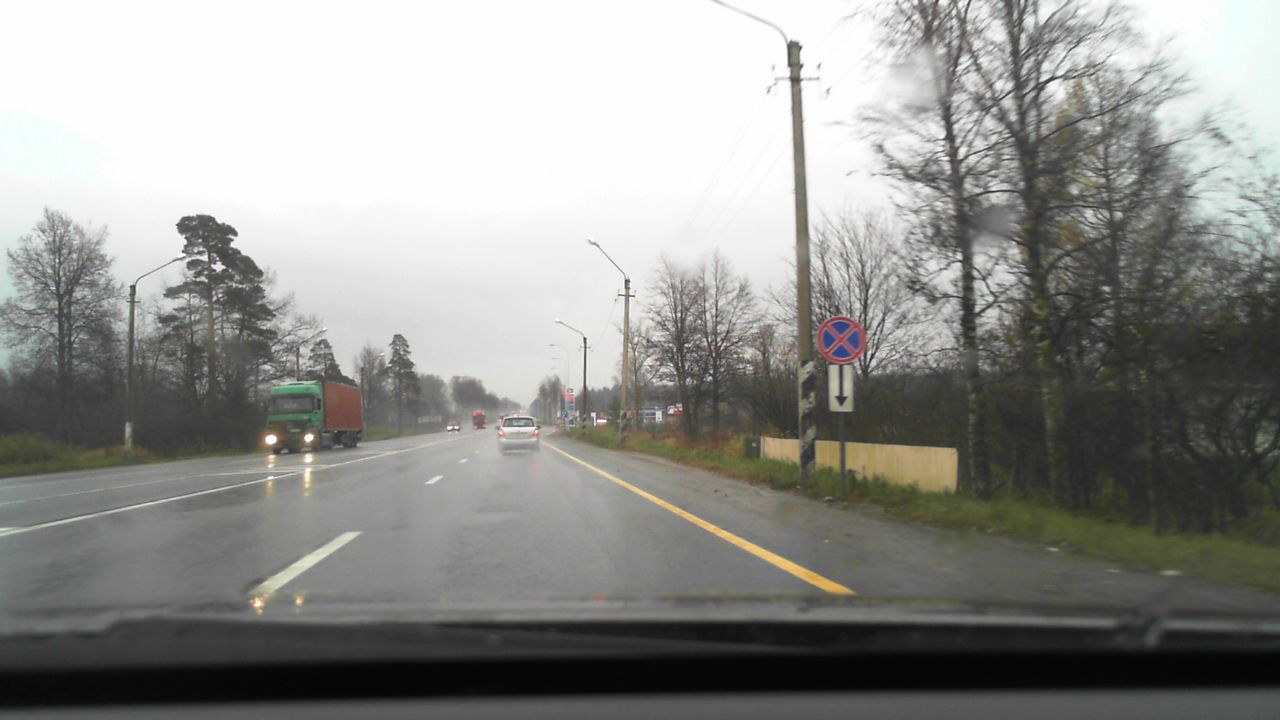No Parking: (816, 316, 865, 364)
